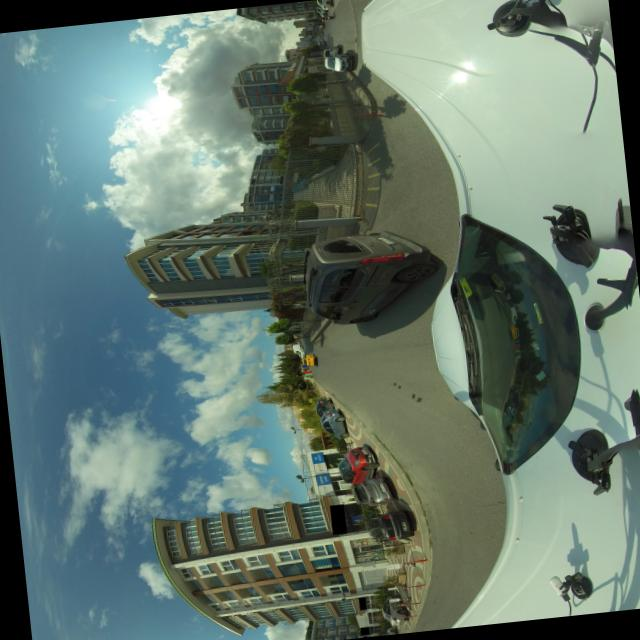SignStore: (329, 503, 346, 533), (315, 474, 334, 494), (311, 451, 327, 472), (358, 596, 366, 609), (360, 625, 369, 634), (363, 634, 367, 637)
